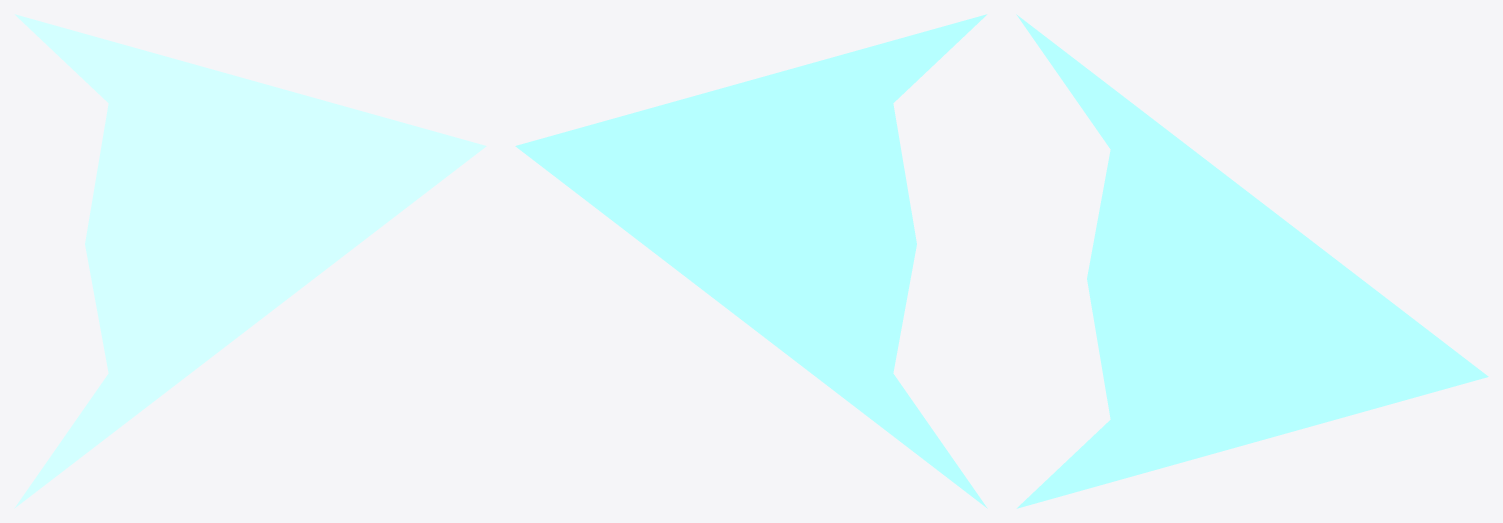
The model's file is AssassinVisual.glb.
3 renders of one model, left to right at view 1: azimuth 30°, elevation 25°; view 2: azimuth 150°, elevation 25°; view 3: azimuth 330°, elevation 25°, orthographic.
Visible parts, largest first — view 1: AssassinVisual; view 2: AssassinVisual; view 3: AssassinVisual.
Boxes of the visible parts, box(x1,y1,x2,y2) form: AssassinVisual: box(14, 14, 486, 508); AssassinVisual: box(515, 14, 987, 508); AssassinVisual: box(1016, 14, 1488, 508).
Bounding box in the file's own units: 40 × 40 × 0.
